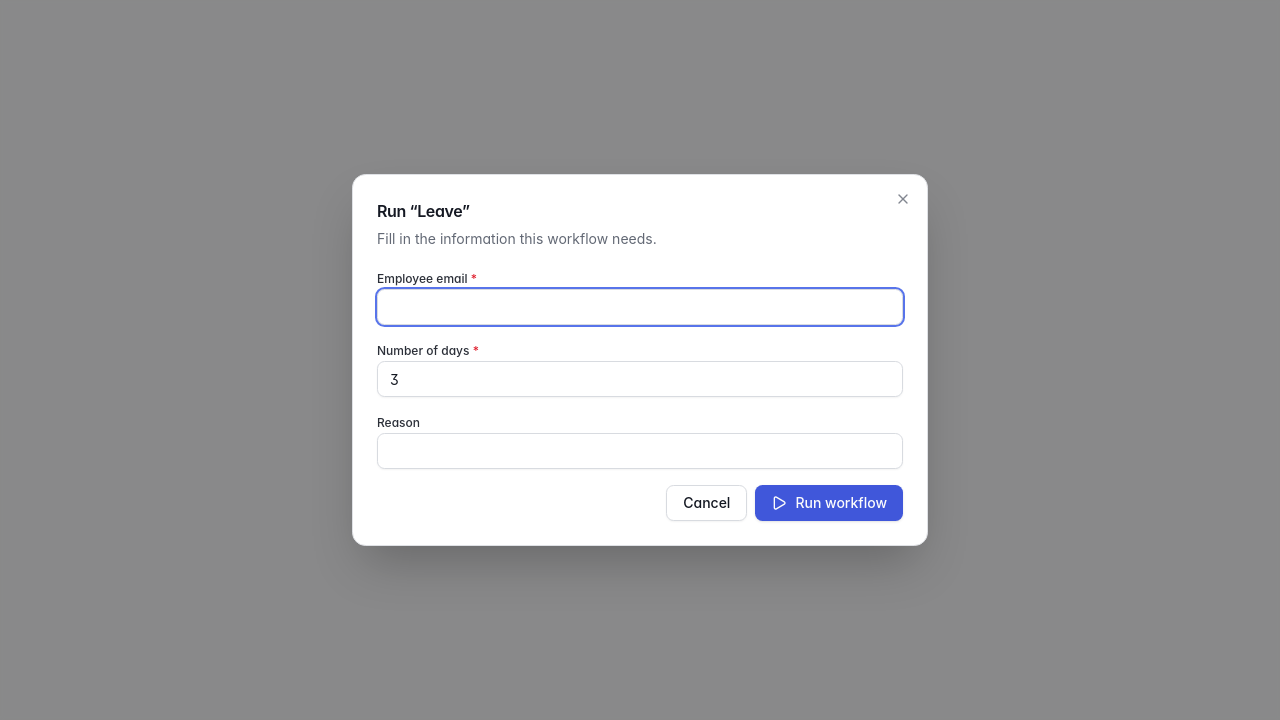
Test: Run dialog for business workflows › shows a form instead of JSON and sends typed values
The width and height of the screenshot is (1280, 720).
Click the button "Run workflow" at (829, 503), box [755,485,903,521]
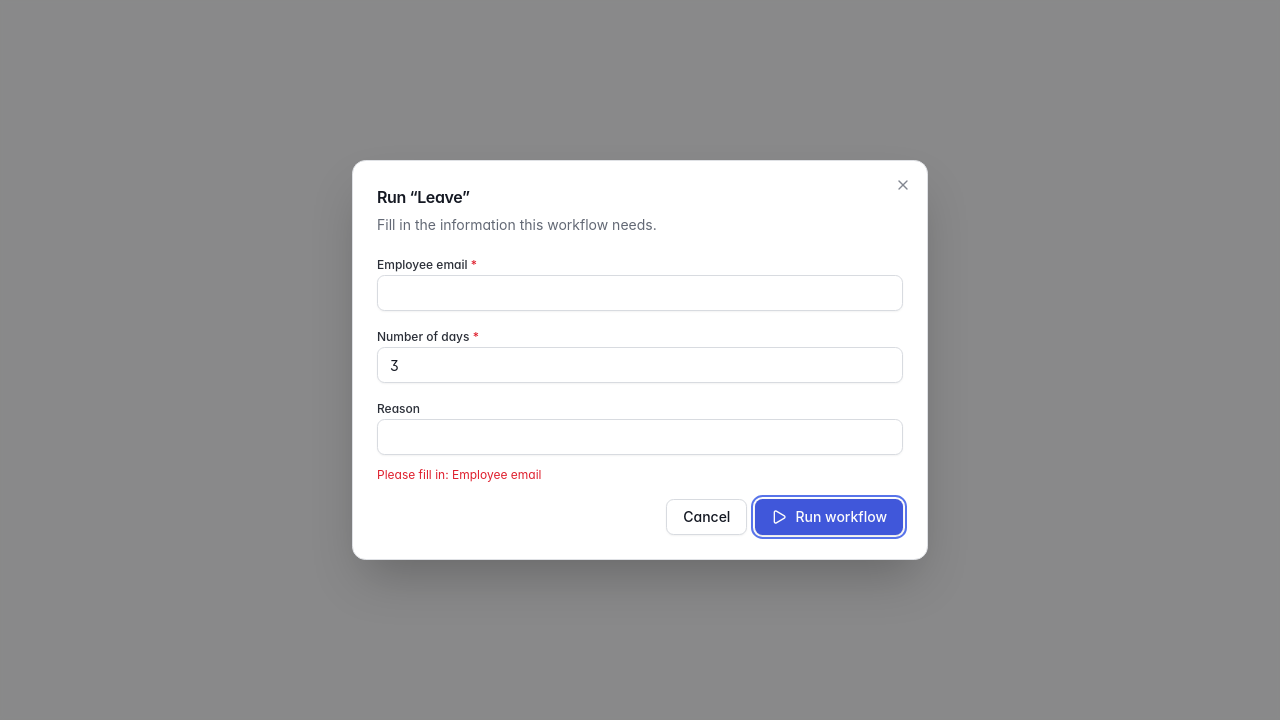
Check: the message reads "Please fill in: Employee email", box [377,467,542,482]
Type "jane@example.com" into the field labelled "Employee email *" at (640, 293), box [377,275,903,311]
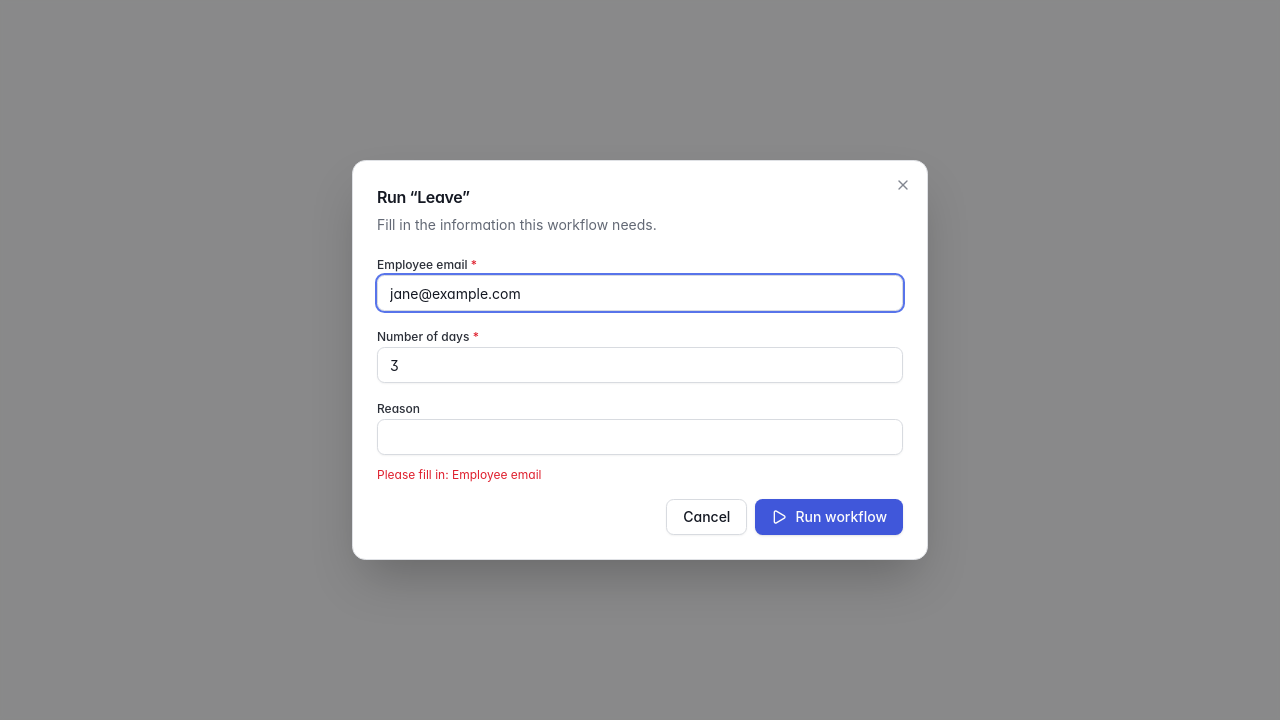
Click the button "Run workflow" at (829, 517), box [755,499,903,535]
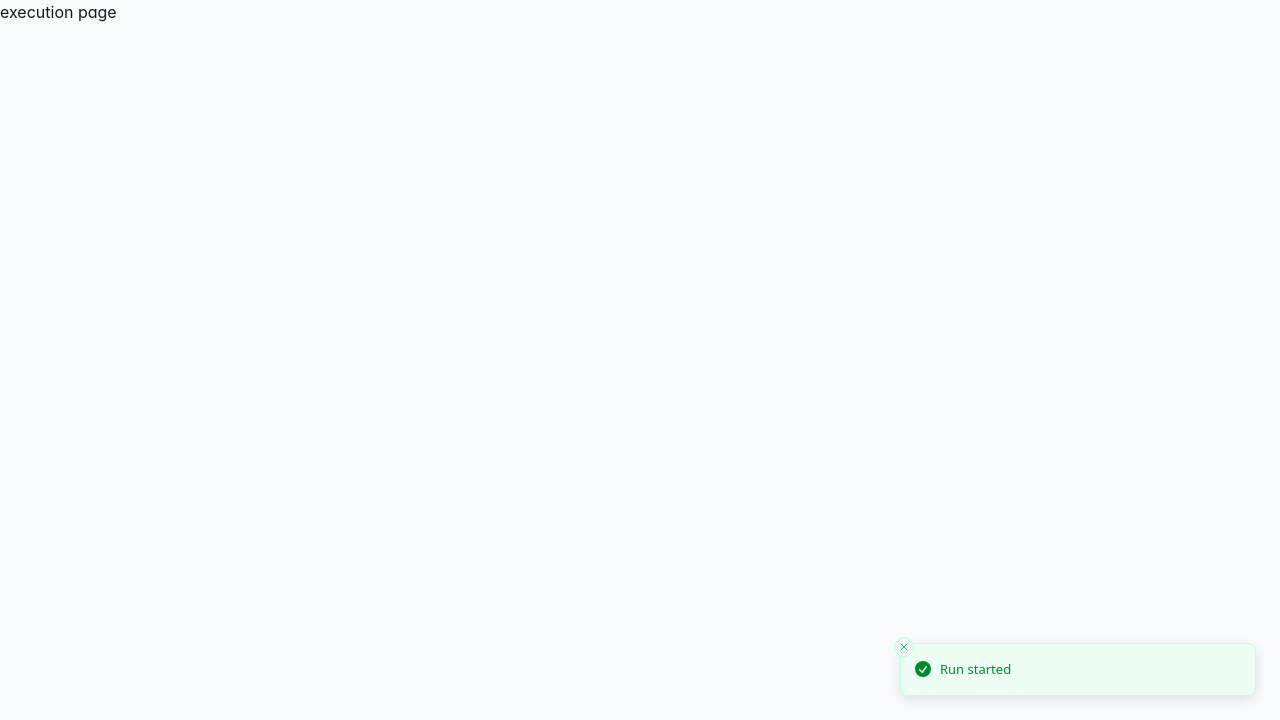
Check: the text "execution page" is shown, box [0,2,117,22]
